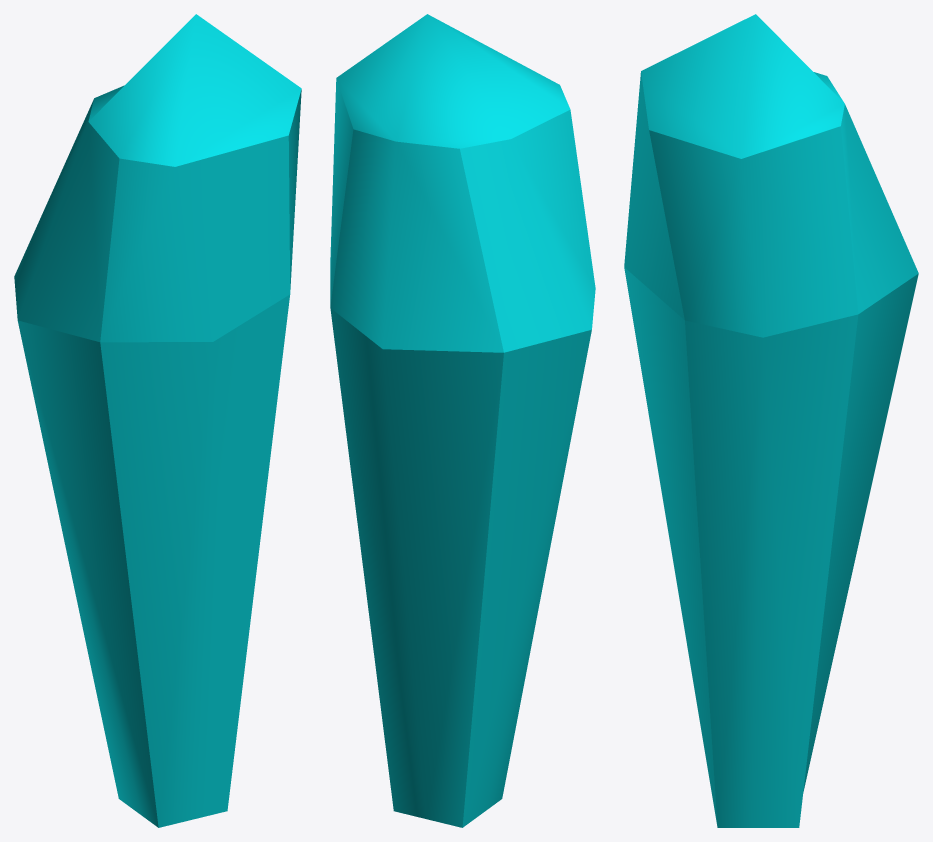
Rendered from Crystal2.fbx.
3 views of the same model, side by side, from view 1: azimuth 30°, elevation 25°; view 2: azimuth 150°, elevation 25°; view 3: azimuth 270°, elevation 25° (orthographic). The views are drawn at different scales.
Parts seen in each view (by area): view 1: pCube5; view 2: pCube5; view 3: pCube5.
Part boxes in pixels (<box>): pCube5: <box>14,14,301,827</box>; pCube5: <box>330,14,595,827</box>; pCube5: <box>624,14,918,827</box>.
Bounding box in the file's own units: 1.87 × 5.21 × 1.72.
